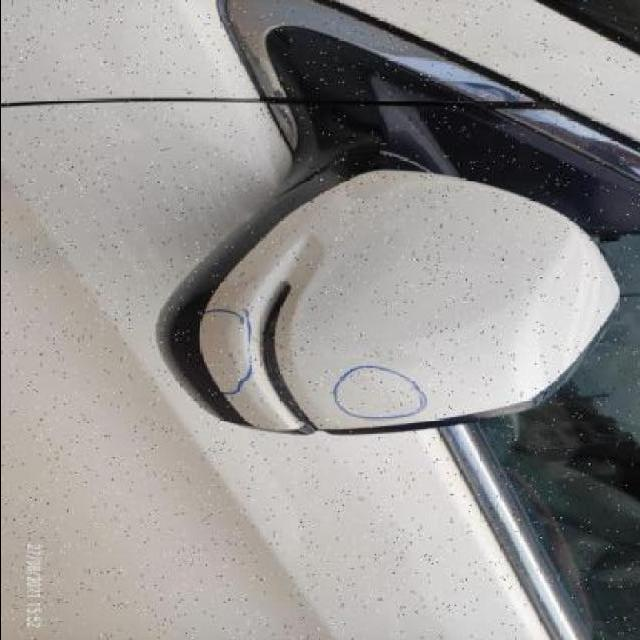Sidemirror-Damage: (136, 166, 612, 450)
